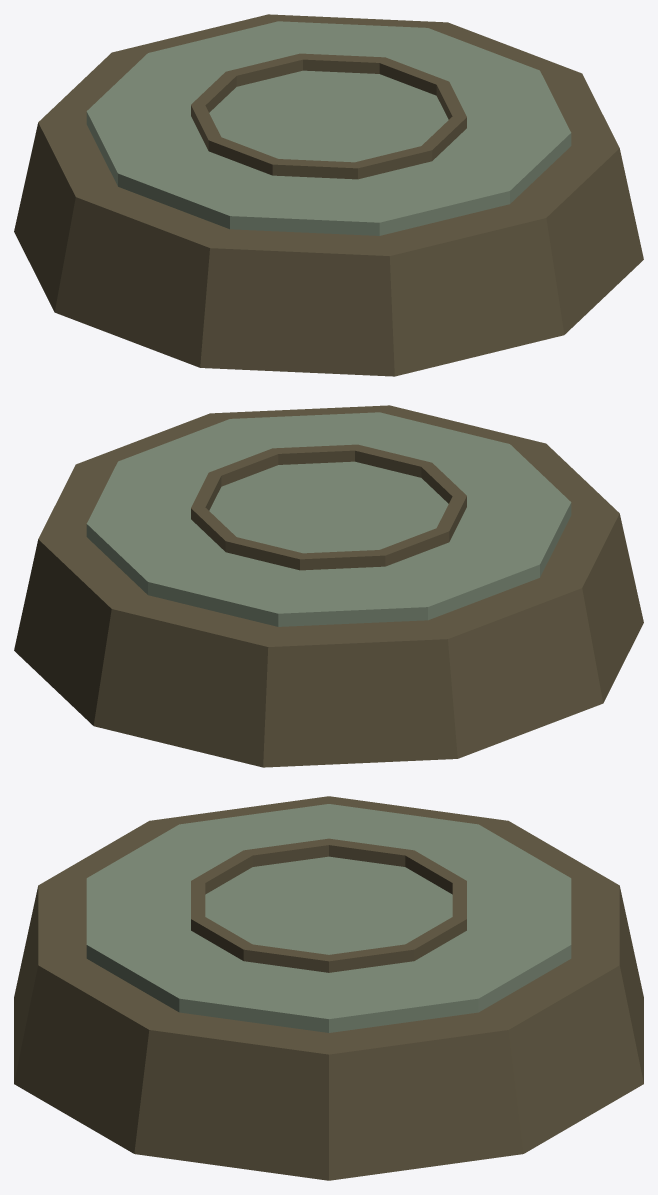
The model's file is stepping-log.glb.
3 renders of one model, top to bottom at view 1: azimuth 30°, elevation 25°; view 2: azimuth 150°, elevation 25°; view 3: azimuth 270°, elevation 25°, orthographic. The views are drawn at different scales.
Parts seen in each view (by area): view 1: stepping-log__body; view 2: stepping-log__body; view 3: stepping-log__body.
Boxes of the visible parts, x1,y1,x2,y2 form: stepping-log__body: [14, 14, 643, 376]; stepping-log__body: [14, 405, 643, 767]; stepping-log__body: [14, 796, 643, 1180].
Size of the model in its own units: 1.3 by 0.305 by 1.24.
